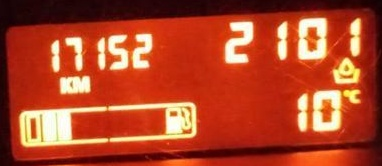0: (310, 87, 342, 133), (295, 15, 327, 61)
1: (345, 15, 364, 57), (292, 88, 309, 133), (274, 18, 288, 61), (46, 36, 61, 74), (93, 34, 106, 70)
2: (222, 18, 255, 65), (130, 31, 153, 70)
5: (107, 32, 129, 70)
7: (63, 33, 83, 71)
X: (57, 74, 73, 96), (73, 74, 90, 94), (348, 87, 361, 104)
